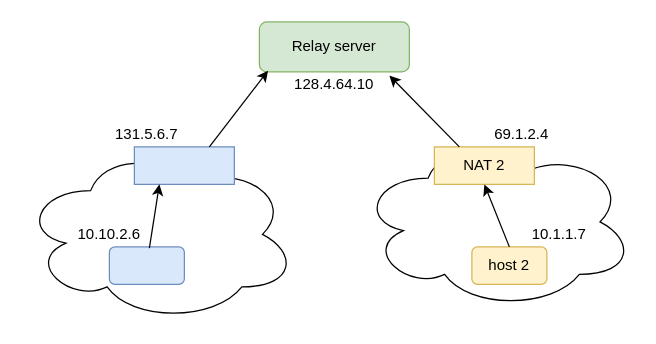
This 656x344 diagram has some shape labels left out. Each missing label, with the box of its shape:
host 1: (108, 246, 184, 284)
NAT 1: (133, 146, 234, 184)
